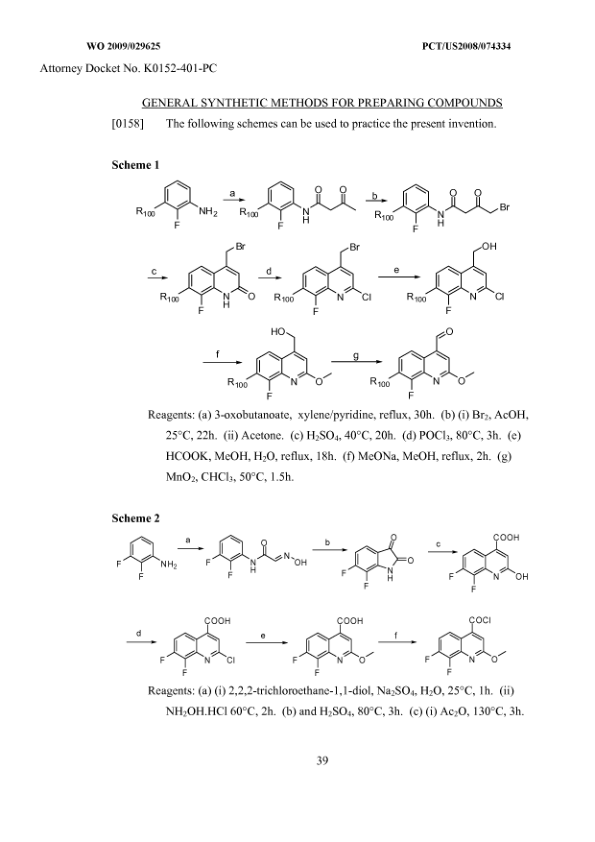compound-structure: (403, 236, 520, 315), (225, 321, 332, 404), (369, 324, 478, 403), (275, 240, 385, 318), (161, 240, 257, 318), (375, 180, 511, 233), (201, 525, 311, 590), (444, 524, 538, 599), (242, 175, 359, 232), (336, 519, 418, 596), (291, 608, 380, 678), (160, 604, 241, 679), (417, 616, 511, 679), (128, 174, 222, 231), (112, 531, 179, 585)
reaction: (96, 159, 524, 405), (87, 520, 562, 688)
reaction-arrow: (373, 629, 424, 655), (244, 631, 294, 654), (199, 350, 247, 371), (376, 265, 419, 286), (330, 353, 382, 370), (424, 538, 462, 558), (314, 538, 349, 559), (218, 185, 246, 211), (128, 627, 156, 648), (143, 266, 169, 286), (180, 538, 205, 553), (365, 192, 386, 209), (260, 268, 282, 283)
